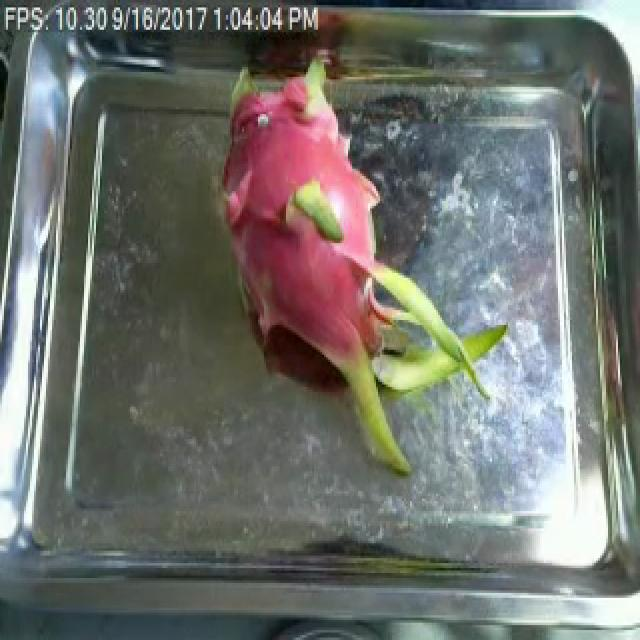fruit: (208, 69, 518, 479)
